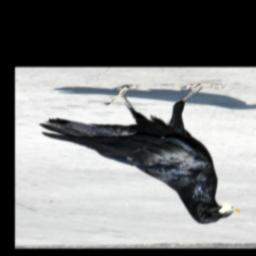Crow: (38, 82, 240, 224)
